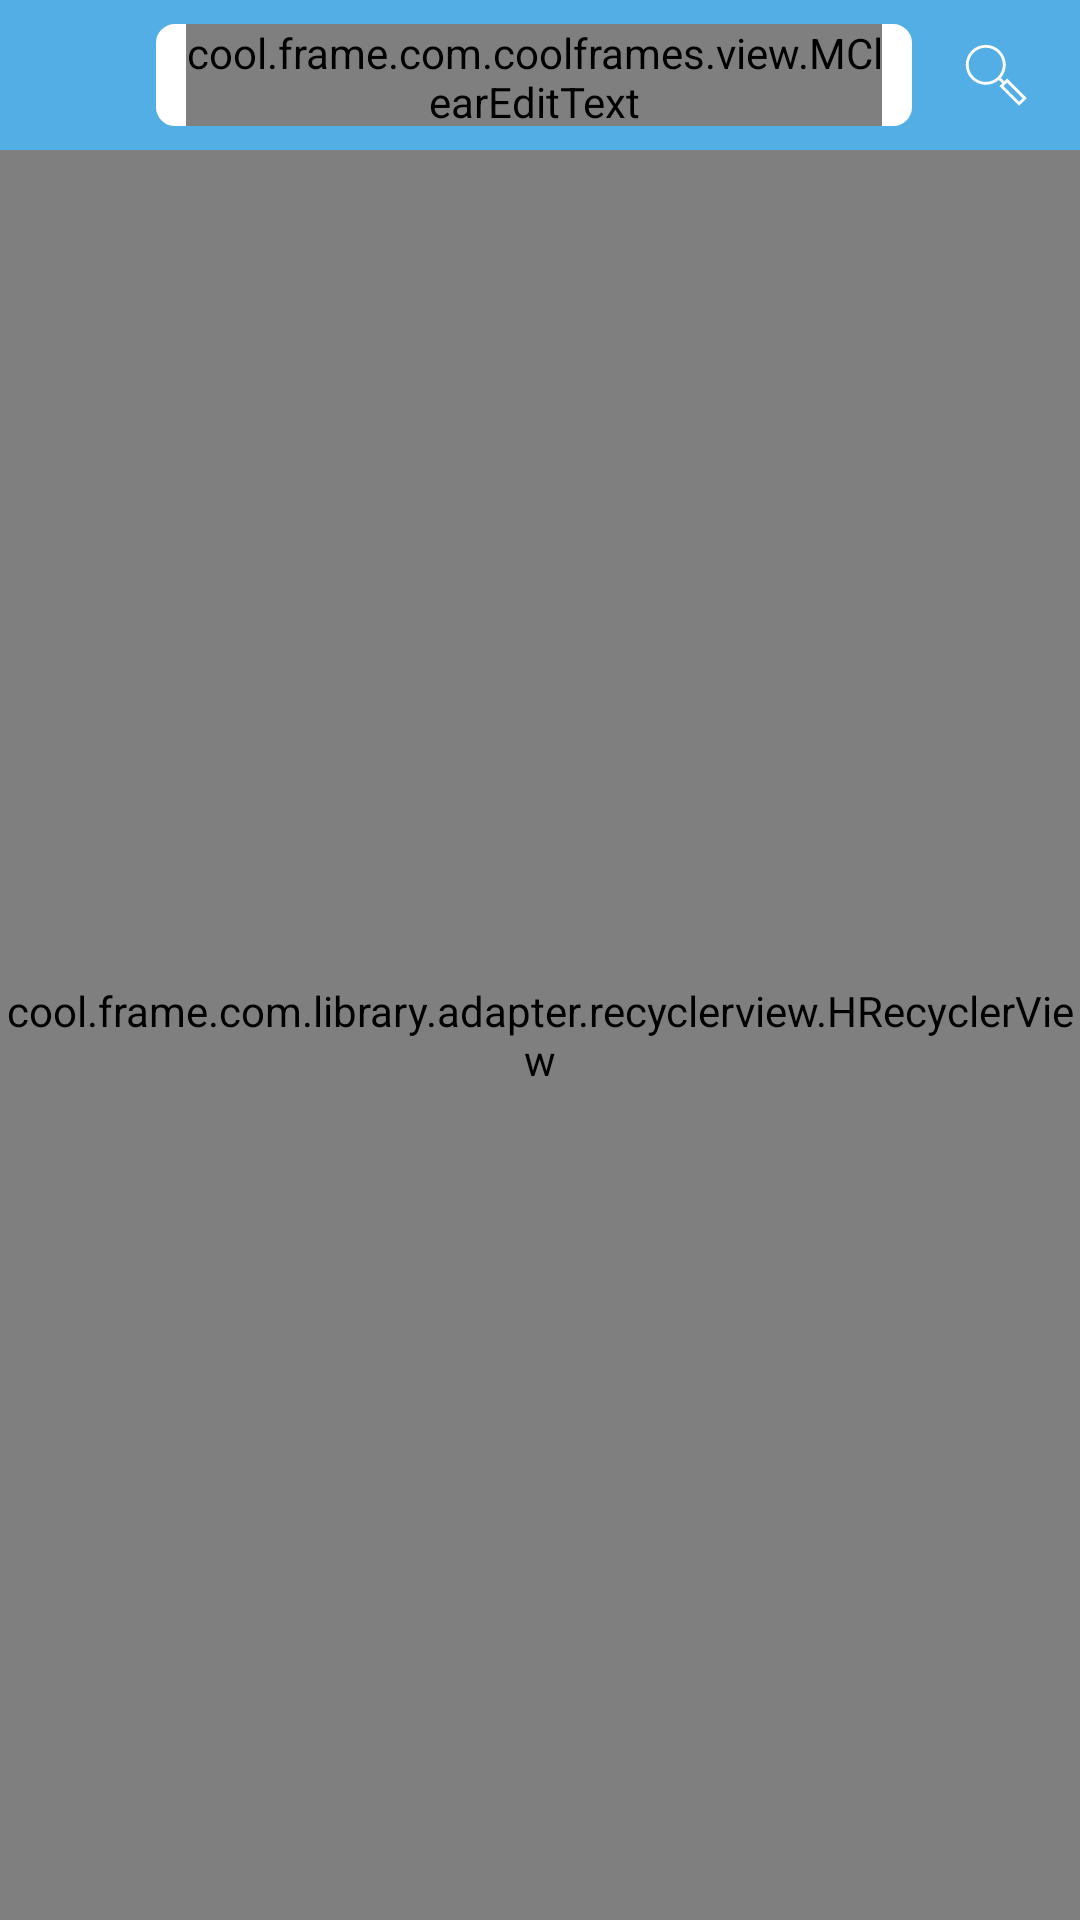

Screen size 1080*1920. Icon name, then its center in pixels as point (x, y):
gank search: point (996, 75)
